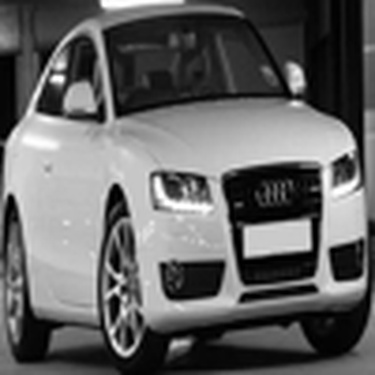car: (1, 11, 371, 374)
